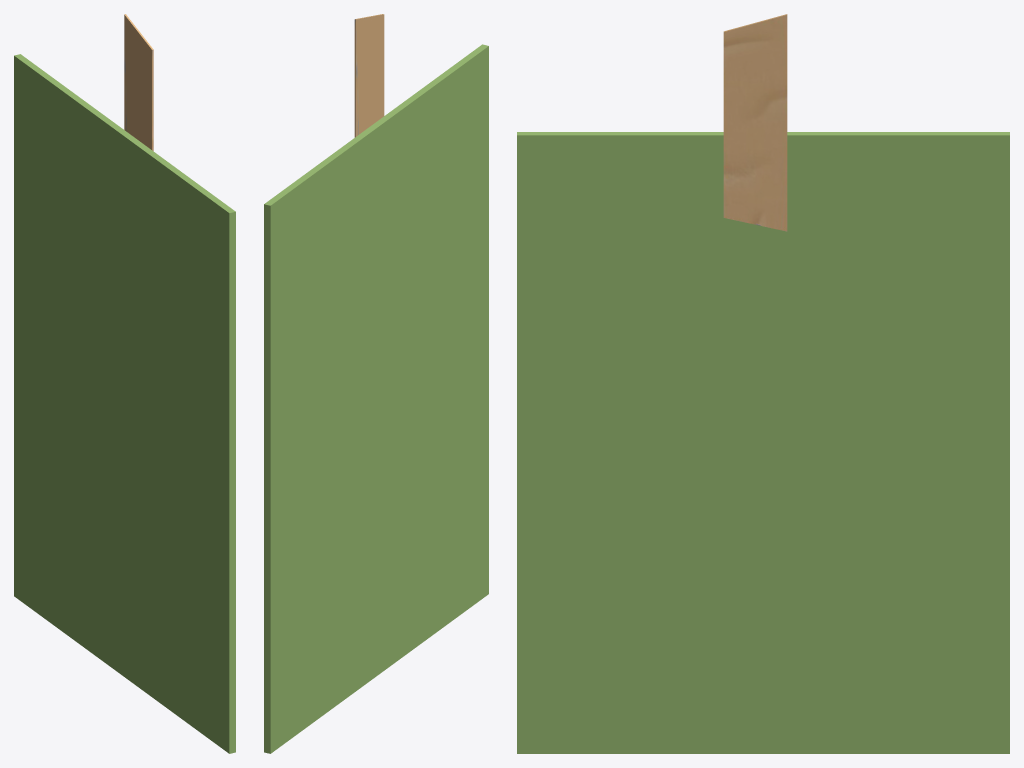
File: receipt.fbx
3 renders of one model, left to right at view 1: azimuth 30°, elevation 25°; view 2: azimuth 150°, elevation 25°; view 3: azimuth 270°, elevation 25°, orthographic. The views are drawn at different scales.
Visible parts, largest first — view 1: tape and receipt; view 2: tape and receipt; view 3: tape and receipt.
Part boxes in pixels (x1,y1,x2,y2): tape and receipt: (14, 14, 235, 753); tape and receipt: (264, 14, 488, 753); tape and receipt: (517, 14, 1009, 753).
Bounding box in the file's own units: 8.93 × 383 × 230.
2 materials, 1 textured.
